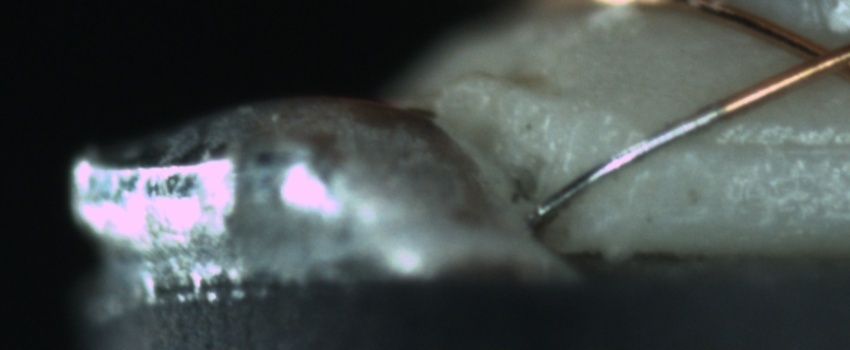CL: (779, 27, 849, 86)
DL: (699, 115, 849, 177)
TS: (537, 103, 725, 220)
